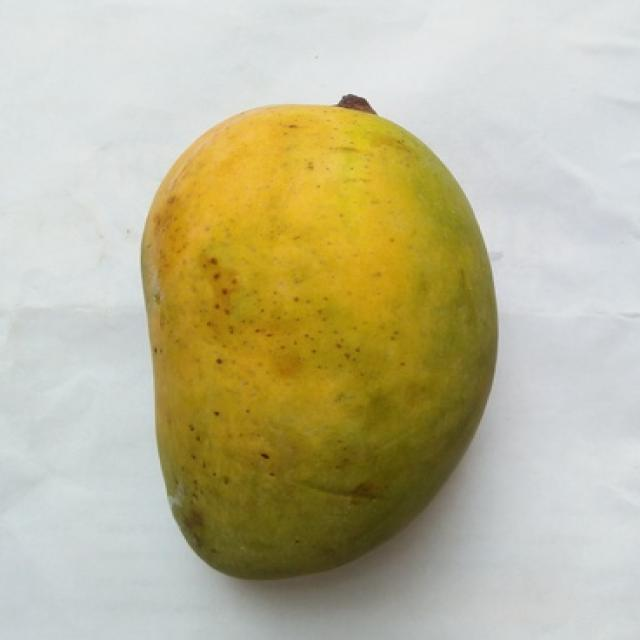Mango: (143, 103, 496, 576)
